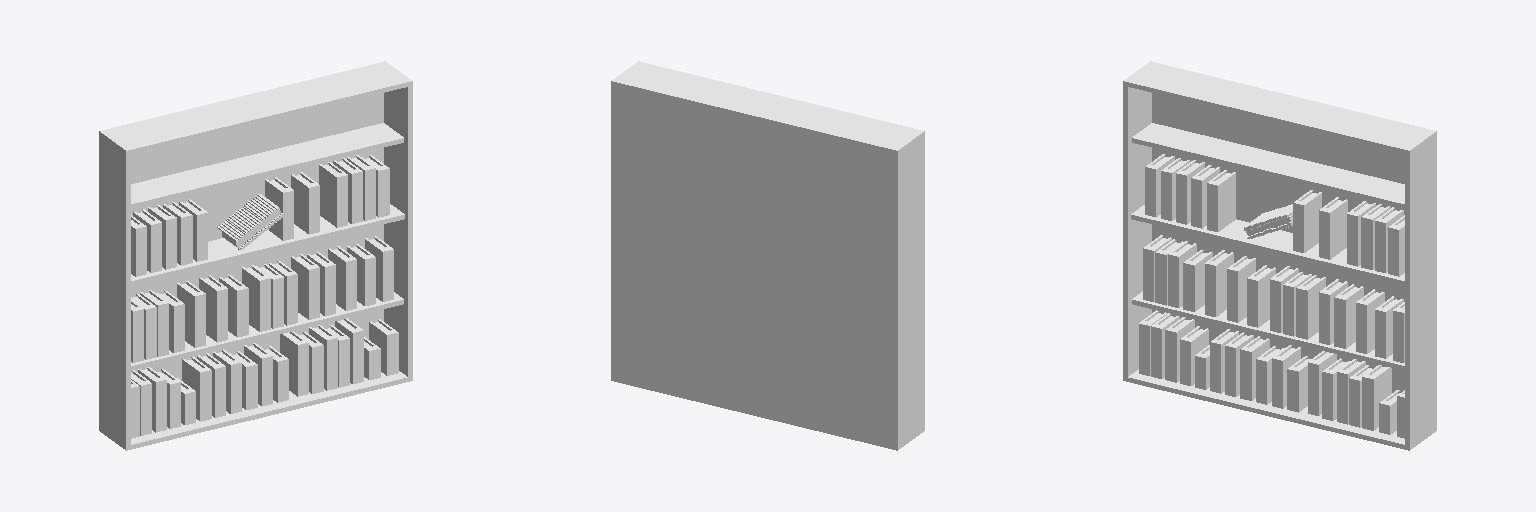
The model's file is EstanteComLivros.obj.
The picture shows the model from 3 angles: view 1: azimuth 30°, elevation 25°; view 2: azimuth 150°, elevation 25°; view 3: azimuth 330°, elevation 25°; orthographic projection.
Parts seen in each view (by area): view 1: object 1; view 2: object 1; view 3: object 1.
Part boxes in pixels (left/top/right/bottom): object 1: left=99, top=61, right=412, bottom=450; object 1: left=611, top=61, right=924, bottom=450; object 1: left=1123, top=61, right=1436, bottom=450.
Size of the model in its own units: 25.6 by 25.6 by 4.2.